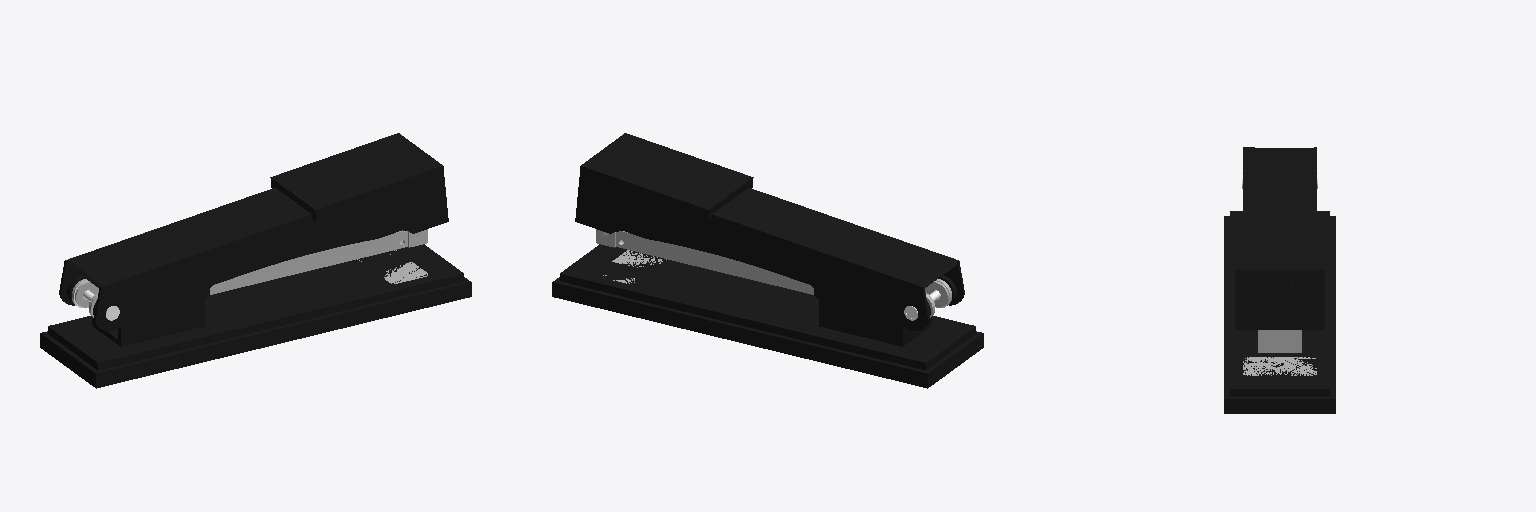
The model's file is stapler2.obj.
The picture shows the model from 3 angles: view 1: azimuth 30°, elevation 25°; view 2: azimuth 150°, elevation 25°; view 3: azimuth 270°, elevation 25°; orthographic projection.
Parts seen in each view (by area): view 1: Mesh27 Lower_Unit2 Stapler1 Model, Mesh29 Top1 Stapler1 Model, Mesh3 Top_Endcap1 Group2 Stapler1 Model, Mesh19 Lower_Unit1 Stapler1 Model, Mesh30 Top2 Stapler1 Model, Mesh26 Staple_Tray1 Stapler1 Model, Mesh4 Top_Endcap2 Group2 Stapler1 Model, Mesh22 Connector_Piece2 Stapler1 Model, Mesh28 Lower_Unit2 Stapler1 Model; view 2: Mesh19 Lower_Unit1 Stapler1 Model, Mesh30 Top2 Stapler1 Model, Mesh4 Top_Endcap2 Group2 Stapler1 Model, Mesh27 Lower_Unit2 Stapler1 Model, Mesh29 Top1 Stapler1 Model, Mesh25 Staple_Tray Stapler1 Model, Mesh3 Top_Endcap1 Group2 Stapler1 Model, Mesh21 Connector_Piece1 Stapler1 Model; view 3: Mesh19 Lower_Unit1 Stapler1 Model, Mesh27 Lower_Unit2 Stapler1 Model, Mesh3 Top_Endcap1 Group2 Stapler1 Model, Mesh4 Top_Endcap2 Group2 Stapler1 Model, Mesh29 Top1 Stapler1 Model, Mesh30 Top2 Stapler1 Model.
Part boxes in pixels (x1,y1,x2,y2): Mesh27 Lower_Unit2 Stapler1 Model: (68,255,471,388); Mesh29 Top1 Stapler1 Model: (83,201,401,330); Mesh3 Top_Endcap1 Group2 Stapler1 Model: (293,149,448,233); Mesh19 Lower_Unit1 Stapler1 Model: (40,244,437,367); Mesh30 Top2 Stapler1 Model: (59,188,292,305); Mesh26 Staple_Tray1 Stapler1 Model: (89,229,427,317); Mesh4 Top_Endcap2 Group2 Stapler1 Model: (270,133,419,200); Mesh22 Connector_Piece2 Stapler1 Model: (93,299,204,346); Mesh28 Lower_Unit2 Stapler1 Model: (384,262,427,283); Mesh19 Lower_Unit1 Stapler1 Model: (552,255,955,388); Mesh30 Top2 Stapler1 Model: (625,201,940,330); Mesh4 Top_Endcap2 Group2 Stapler1 Model: (575,149,730,233); Mesh27 Lower_Unit2 Stapler1 Model: (586,244,983,367); Mesh29 Top1 Stapler1 Model: (731,188,964,305); Mesh25 Staple_Tray Stapler1 Model: (596,229,934,317); Mesh3 Top_Endcap1 Group2 Stapler1 Model: (604,133,753,200); Mesh21 Connector_Piece1 Stapler1 Model: (819,299,930,346); Mesh19 Lower_Unit1 Stapler1 Model: (1280,211,1335,413); Mesh27 Lower_Unit2 Stapler1 Model: (1224,211,1279,413); Mesh3 Top_Endcap1 Group2 Stapler1 Model: (1235,221,1279,329); Mesh4 Top_Endcap2 Group2 Stapler1 Model: (1280,221,1324,329); Mesh29 Top1 Stapler1 Model: (1243,147,1279,220); Mesh30 Top2 Stapler1 Model: (1280,147,1316,220).
Bounding box in the file's own units: 6.19 × 2.09 × 1.59.